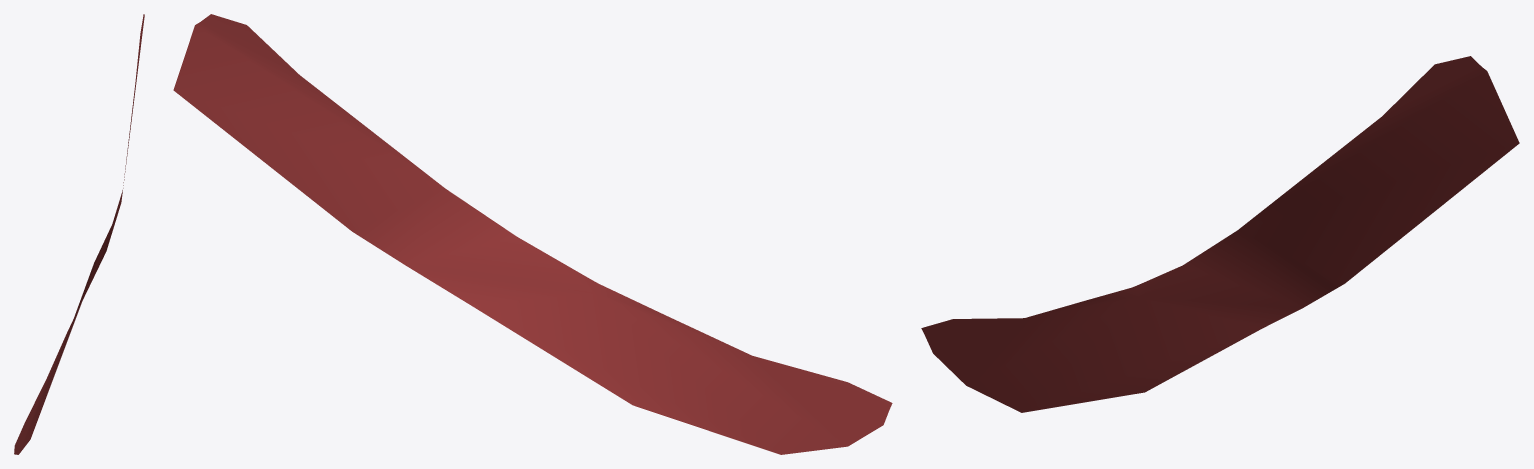
File: depressor-labii-inferioris-ol.glb
3 renders of one model, left to right at view 1: azimuth 30°, elevation 25°; view 2: azimuth 150°, elevation 25°; view 3: azimuth 270°, elevation 25°, orthographic. The views are drawn at different scales.
Parts seen in each view (by area): view 1: Depressor labii inferioris.ol; view 2: Depressor labii inferioris.ol; view 3: Depressor labii inferioris.ol.
Part boxes in pixels (left/top/right/bottom): Depressor labii inferioris.ol: left=14, top=14, right=144, bottom=454; Depressor labii inferioris.ol: left=173, top=14, right=892, bottom=454; Depressor labii inferioris.ol: left=921, top=56, right=1519, bottom=412.
Size of the model in its own units: 0.0187 by 0.0187 by 0.0176.
